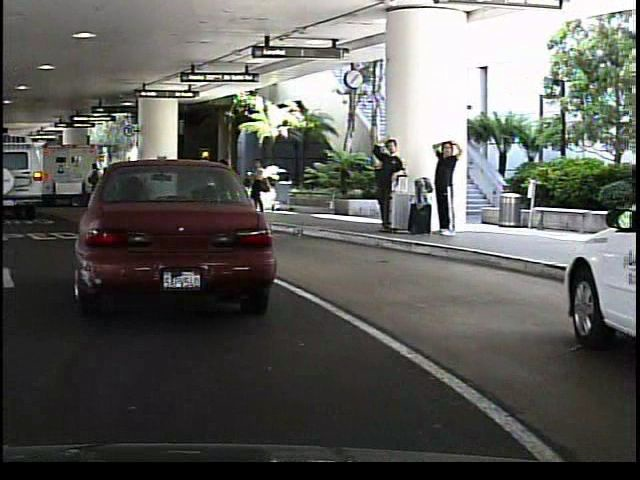person: (426, 133, 461, 236), (371, 134, 403, 234), (244, 156, 270, 219), (374, 153, 395, 226)
